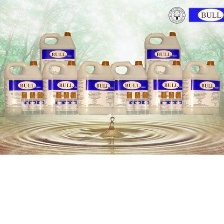cleaning_solution: (107, 57, 151, 118), (142, 30, 180, 97), (144, 56, 185, 117), (180, 59, 222, 118), (75, 59, 116, 117), (37, 28, 76, 87), (39, 58, 80, 114), (3, 61, 43, 116)
